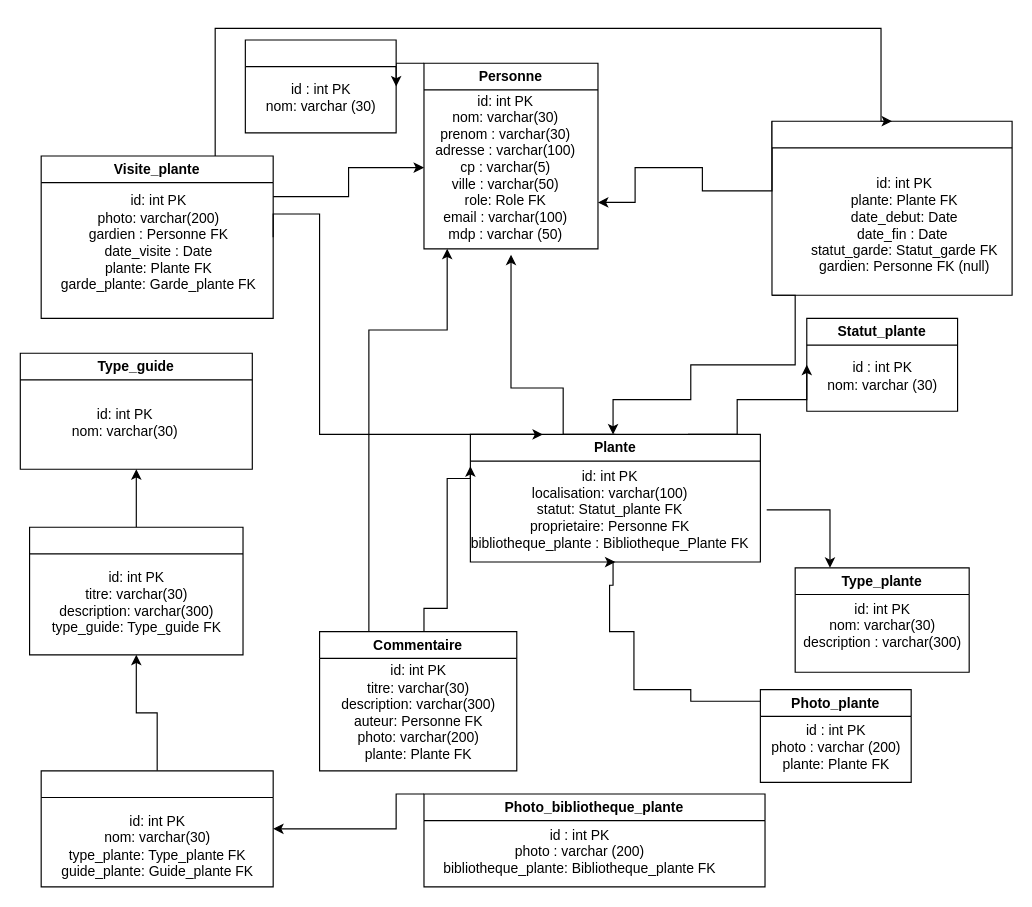
This 1032x907 diagram has some shape labels left out. The box of each missing label's shape, as (x1, y1, x2, y2) in pixels:
Bibliotheque_plante: (40, 770, 273, 887)
Garde_glante: (771, 120, 1012, 295)
Guide_plante: (28, 526, 243, 655)
Role: (244, 39, 396, 133)
